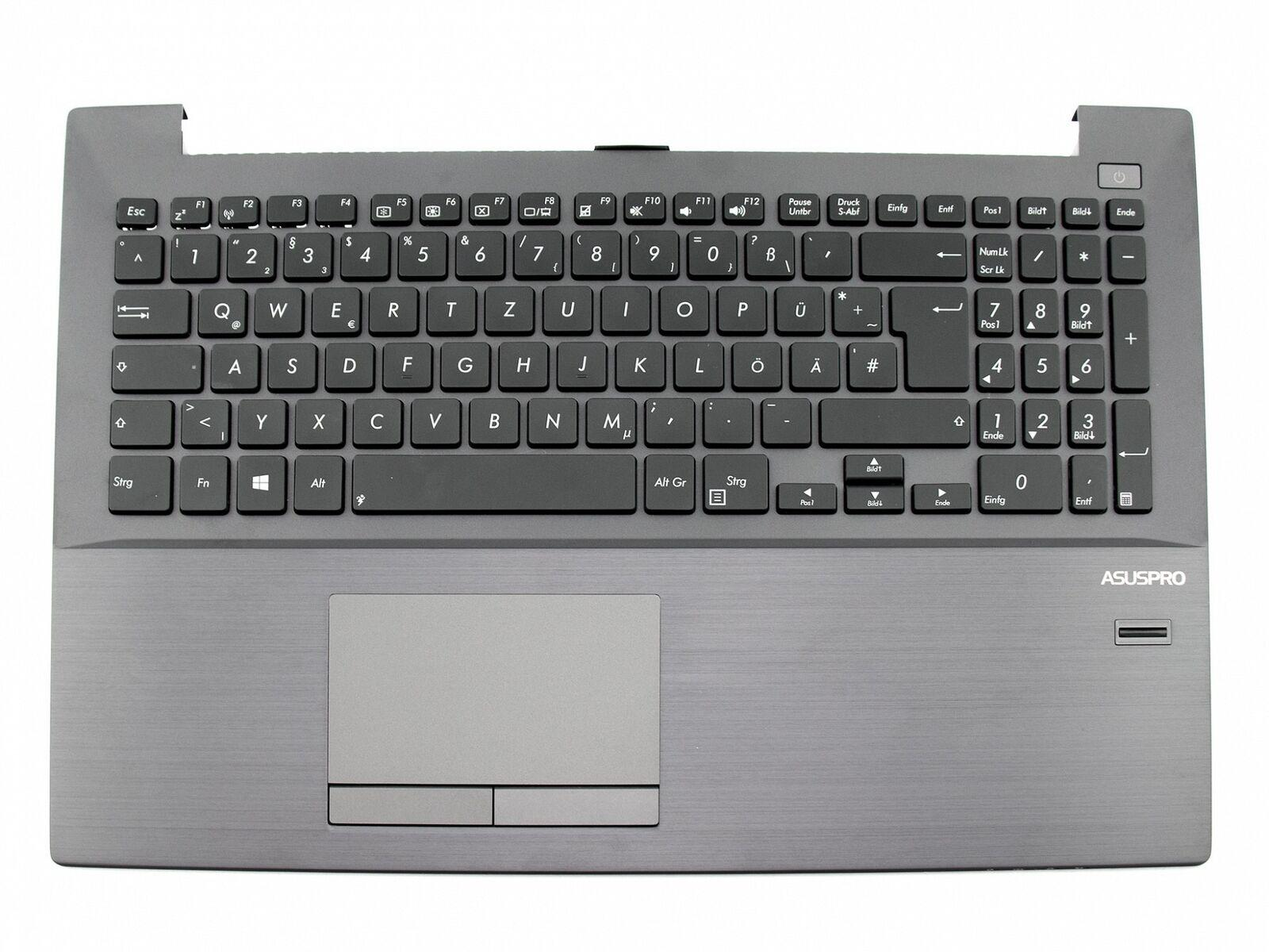0: (684, 227, 737, 275)
1: (168, 230, 218, 279)
2: (224, 230, 275, 278)
3: (280, 229, 332, 278)
4: (338, 229, 389, 277)
5: (395, 228, 447, 277)
6: (452, 228, 504, 276)
7: (511, 227, 563, 275)
8: (568, 227, 621, 277)
9: (626, 227, 678, 276)
a: (208, 340, 259, 390)
accent: (800, 228, 851, 276)
ae: (787, 338, 839, 390)
alt-left: (291, 451, 344, 512)
altgr-right: (642, 451, 696, 512)
b: (466, 394, 520, 444)
c: (349, 394, 403, 445)
caret: (112, 232, 162, 279)
comma: (642, 394, 694, 444)
d: (322, 339, 374, 390)
del: (857, 228, 965, 278)
e: (309, 283, 361, 333)
enter: (889, 283, 968, 390)
f: (380, 339, 431, 389)
g: (437, 338, 489, 389)
h: (496, 338, 549, 389)
hash: (844, 338, 897, 390)
i: (598, 282, 650, 332)
j: (554, 337, 607, 389)
k: (612, 337, 665, 388)
keyboard: (94, 171, 1168, 542)
l: (671, 337, 723, 389)
less: (178, 395, 230, 445)
m: (582, 393, 637, 445)
minus: (757, 396, 811, 444)
n: (524, 393, 579, 444)
o: (657, 282, 709, 332)
oe: (729, 338, 782, 389)
p: (715, 283, 766, 332)
plus: (829, 282, 880, 333)
point: (700, 394, 753, 443)
q: (194, 284, 248, 335)
r: (366, 283, 418, 332)
s: (264, 340, 316, 390)
shift-left: (105, 397, 171, 447)
shift-lock: (107, 340, 203, 390)
shift-right: (816, 394, 969, 444)
space: (351, 450, 636, 513)
ss: (743, 228, 794, 276)
strg-left: (102, 451, 171, 512)
strg-right: (700, 450, 770, 512)
t: (424, 282, 476, 332)
tab: (109, 286, 190, 336)
u: (539, 282, 593, 332)
ue: (773, 282, 824, 332)
v: (408, 393, 461, 445)
w: (251, 283, 303, 334)
x: (293, 394, 344, 445)
y: (235, 395, 286, 445)
z: (481, 282, 534, 332)
